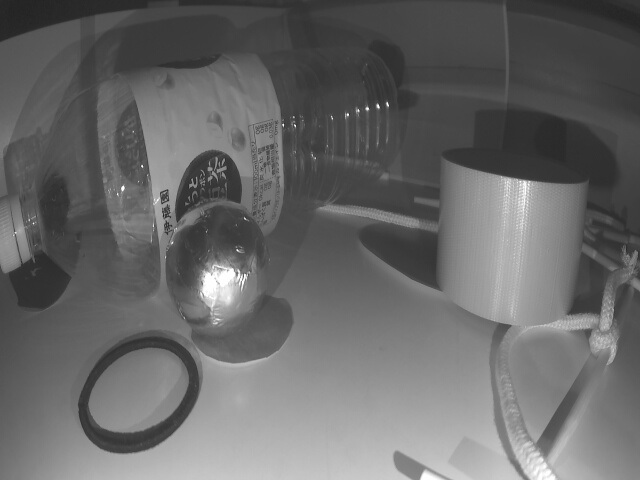Live: (169, 204, 271, 334)
